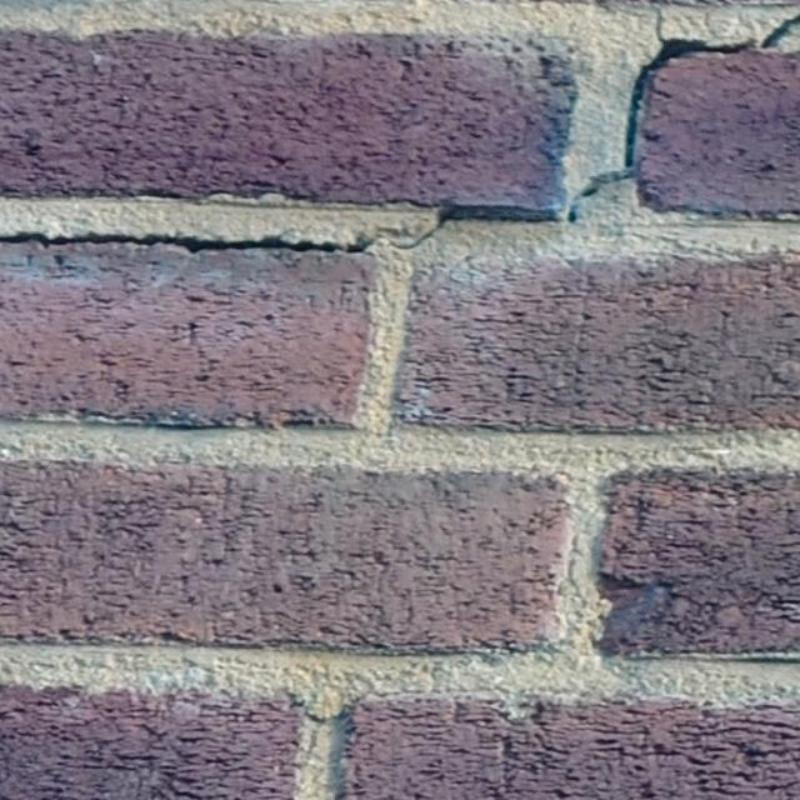pothole: (567, 4, 799, 222), (1, 228, 375, 252), (389, 205, 558, 250)
